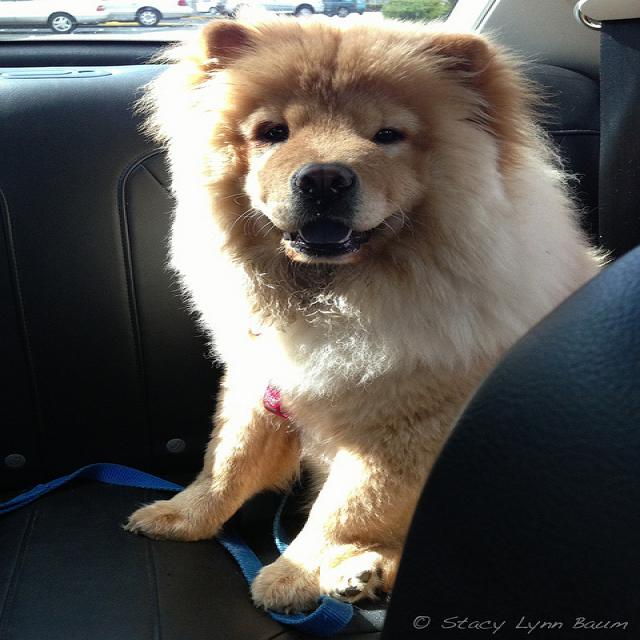Vehicle: (0, 0, 113, 38), (90, 0, 198, 27), (221, 1, 324, 16), (322, 0, 355, 17), (186, 2, 219, 13)
